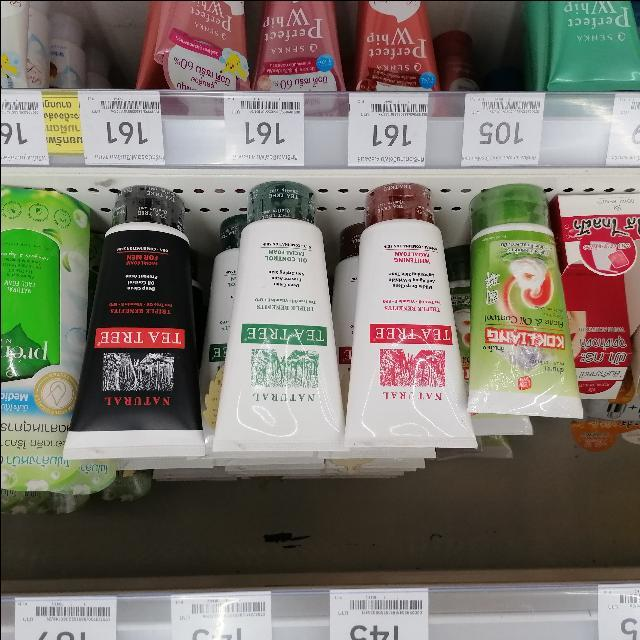Squeeze Tube: (0, 169, 640, 465), (61, 186, 214, 459), (219, 186, 351, 455), (345, 183, 467, 442), (472, 183, 589, 424)
